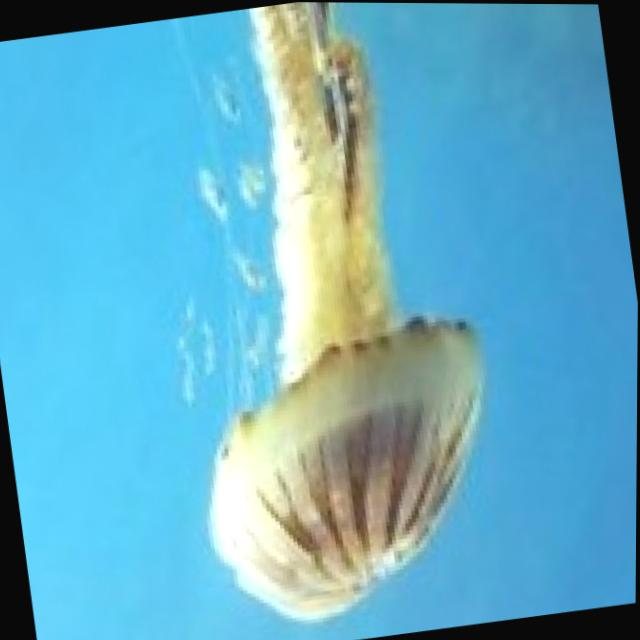Box-jellyfish: (137, 1, 525, 640)
